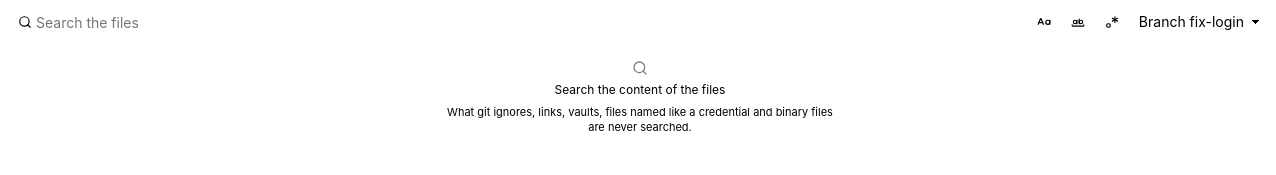
Scenario: the Search view › says a branch it could not search, and nothing found
In the search field labelled "Search the files": {"x": 518, "y": 22} [12,8,1025,36], type "needle"
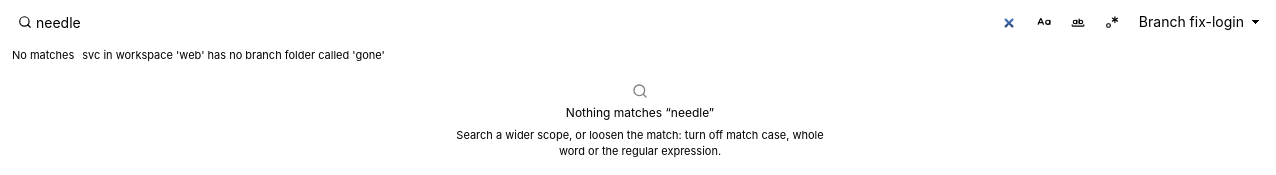
Expected: the message named "Search progress" shows "No matches", [12,48,74,62]
Expected: the message named "Search progress" shows "no branch folder called 'gone'", [82,48,385,62]
